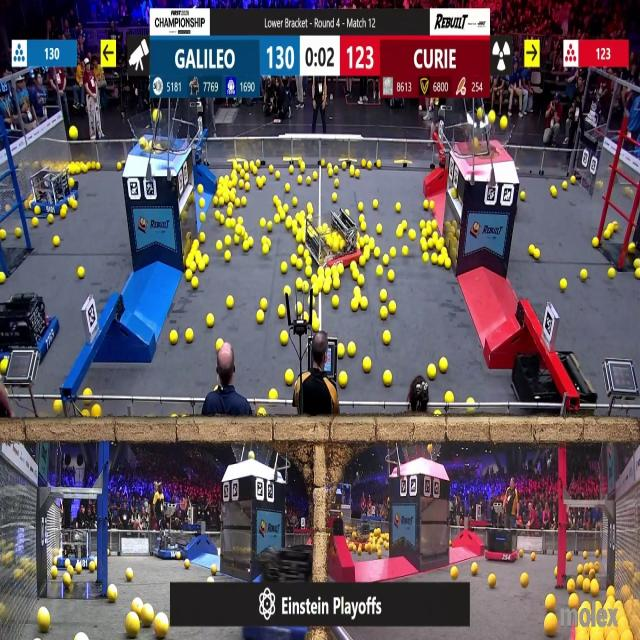ball_airborne: (470, 138, 480, 152), (70, 128, 78, 142), (139, 137, 147, 150), (499, 116, 506, 128), (489, 111, 496, 122), (475, 108, 482, 119), (152, 110, 157, 119), (427, 445, 432, 454)
ball_ground: (127, 615, 141, 638), (156, 616, 170, 639), (38, 611, 50, 633), (544, 616, 556, 637), (142, 606, 154, 626), (544, 594, 554, 612), (590, 581, 600, 597), (108, 586, 117, 603), (340, 373, 348, 389), (569, 595, 578, 609), (384, 372, 392, 387), (285, 371, 293, 386), (362, 357, 370, 372), (348, 343, 356, 358), (56, 401, 64, 416), (383, 332, 391, 346), (185, 328, 193, 342), (522, 572, 530, 586), (441, 358, 449, 372), (584, 580, 592, 594), (256, 311, 264, 324), (278, 306, 286, 319), (567, 581, 575, 594), (338, 345, 346, 358), (388, 302, 396, 315), (428, 364, 436, 377), (93, 406, 101, 419), (628, 243, 636, 256), (0, 360, 7, 374), (132, 600, 140, 612), (281, 333, 288, 346), (225, 295, 232, 308), (171, 332, 178, 345), (207, 314, 214, 327), (331, 295, 338, 308), (489, 574, 496, 587), (312, 320, 320, 331), (470, 563, 477, 575), (351, 300, 358, 312), (127, 568, 134, 580), (360, 299, 367, 311), (377, 266, 384, 278), (579, 270, 586, 282), (381, 290, 388, 302), (185, 255, 192, 267), (232, 174, 239, 186), (270, 389, 278, 399), (446, 392, 454, 402), (77, 268, 84, 279), (388, 271, 395, 282), (381, 308, 388, 319), (61, 207, 68, 218), (64, 573, 71, 584), (297, 213, 304, 224), (452, 566, 458, 578), (296, 304, 302, 316), (260, 300, 266, 312), (534, 248, 540, 260), (281, 264, 288, 274), (374, 248, 381, 258), (290, 254, 297, 264), (91, 561, 98, 571), (430, 253, 437, 263), (354, 287, 361, 297), (334, 279, 341, 289), (445, 261, 452, 271), (75, 564, 82, 574), (217, 197, 224, 207), (285, 217, 292, 227), (434, 240, 441, 250), (304, 284, 311, 294), (194, 252, 201, 262), (191, 278, 197, 289), (560, 279, 566, 290), (216, 340, 222, 351), (296, 245, 302, 256), (51, 567, 57, 578), (427, 240, 433, 251), (306, 267, 312, 278), (308, 203, 314, 214), (607, 587, 613, 598), (363, 247, 369, 258), (439, 257, 445, 268), (428, 202, 436, 210), (236, 224, 243, 233), (608, 269, 614, 279), (0, 232, 6, 242), (212, 564, 218, 574), (0, 273, 5, 285), (593, 238, 599, 248), (402, 246, 408, 256), (224, 251, 230, 261), (184, 270, 190, 280), (216, 241, 222, 251), (55, 237, 61, 247), (264, 245, 270, 255), (200, 234, 206, 244), (423, 252, 429, 262), (32, 217, 38, 227), (204, 254, 210, 264), (259, 218, 265, 228), (235, 236, 241, 246), (359, 256, 365, 266), (35, 207, 41, 217), (224, 236, 230, 246), (390, 248, 396, 258), (243, 242, 249, 252), (313, 285, 319, 295), (371, 200, 377, 210), (295, 280, 301, 290), (296, 262, 302, 272), (244, 180, 250, 190), (422, 240, 428, 250), (226, 206, 232, 216), (248, 238, 254, 248), (551, 186, 557, 196), (576, 564, 582, 574), (222, 191, 228, 201), (231, 188, 237, 198), (596, 600, 602, 610), (75, 634, 85, 640), (115, 164, 122, 172), (420, 220, 427, 228), (86, 388, 93, 396), (467, 396, 474, 404), (351, 264, 358, 272), (229, 218, 237, 225), (348, 169, 355, 177), (14, 230, 20, 239), (268, 220, 274, 229), (292, 198, 298, 207), (396, 230, 402, 239), (562, 181, 568, 190), (71, 201, 77, 210), (199, 184, 205, 193), (634, 258, 640, 267), (189, 264, 195, 273), (566, 553, 572, 562), (306, 256, 312, 265), (304, 249, 310, 258), (335, 167, 341, 176), (81, 164, 87, 173), (384, 254, 389, 264), (324, 284, 329, 294), (305, 312, 310, 322), (358, 276, 363, 286), (529, 246, 534, 256), (256, 177, 261, 187), (299, 164, 304, 174), (82, 411, 89, 418), (47, 215, 53, 223), (200, 264, 206, 272), (360, 222, 366, 230), (219, 216, 225, 224), (284, 286, 290, 294), (238, 217, 244, 225), (284, 183, 290, 191), (307, 177, 313, 185), (604, 232, 610, 240), (296, 236, 302, 244), (214, 211, 220, 219), (236, 199, 242, 207), (212, 200, 218, 208), (352, 272, 358, 280), (318, 269, 324, 277), (401, 220, 407, 228), (258, 410, 264, 418), (422, 230, 428, 238), (279, 213, 285, 221), (218, 176, 224, 184), (331, 192, 336, 201), (411, 231, 416, 240), (521, 190, 526, 199), (358, 203, 363, 212), (201, 213, 206, 222), (340, 267, 345, 276), (262, 179, 267, 188), (292, 224, 297, 233), (252, 167, 257, 176), (368, 237, 372, 248), (360, 237, 364, 248), (264, 238, 270, 245), (283, 205, 289, 212), (270, 167, 276, 174), (320, 161, 326, 168), (184, 560, 189, 568), (378, 223, 382, 233), (396, 203, 400, 213), (531, 553, 536, 561), (242, 198, 246, 208), (570, 176, 575, 184), (355, 170, 360, 178), (275, 215, 280, 223), (200, 200, 205, 208), (276, 172, 281, 180), (336, 179, 341, 187), (192, 241, 197, 249), (274, 198, 279, 206), (432, 232, 437, 240), (366, 163, 371, 171), (359, 215, 364, 223), (443, 248, 448, 256), (65, 560, 70, 568), (240, 172, 245, 180), (312, 276, 317, 284), (636, 270, 640, 279), (424, 201, 428, 210), (555, 567, 559, 576), (434, 412, 440, 418), (207, 576, 213, 582), (176, 553, 181, 560), (313, 173, 318, 180), (312, 312, 317, 319), (343, 161, 348, 168), (244, 234, 249, 241), (216, 188, 221, 195), (297, 176, 301, 184), (289, 167, 293, 175), (328, 169, 332, 177), (432, 220, 436, 228), (97, 164, 101, 172), (361, 161, 365, 169), (378, 552, 382, 560), (585, 552, 589, 560), (378, 162, 382, 169), (107, 550, 111, 557), (596, 551, 600, 558), (520, 551, 524, 558)
goal: (129, 115, 187, 152), (462, 120, 515, 158)
robot_blue: (0, 292, 56, 363), (28, 158, 76, 215), (58, 528, 96, 570), (152, 530, 182, 558)
robot_red: (305, 215, 358, 268), (485, 529, 519, 563)
